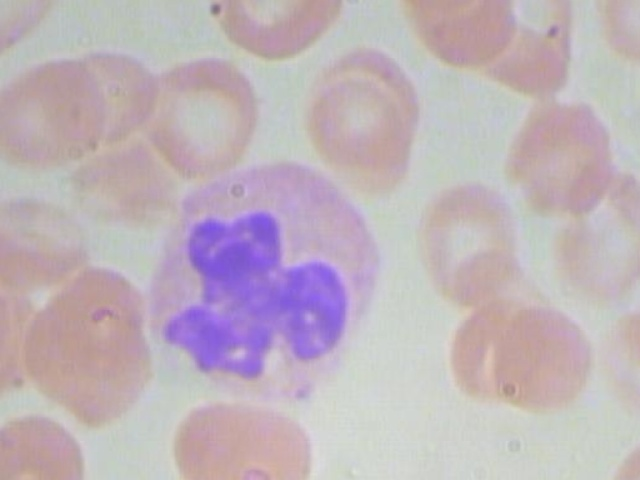WBC: (132, 156, 383, 411)
